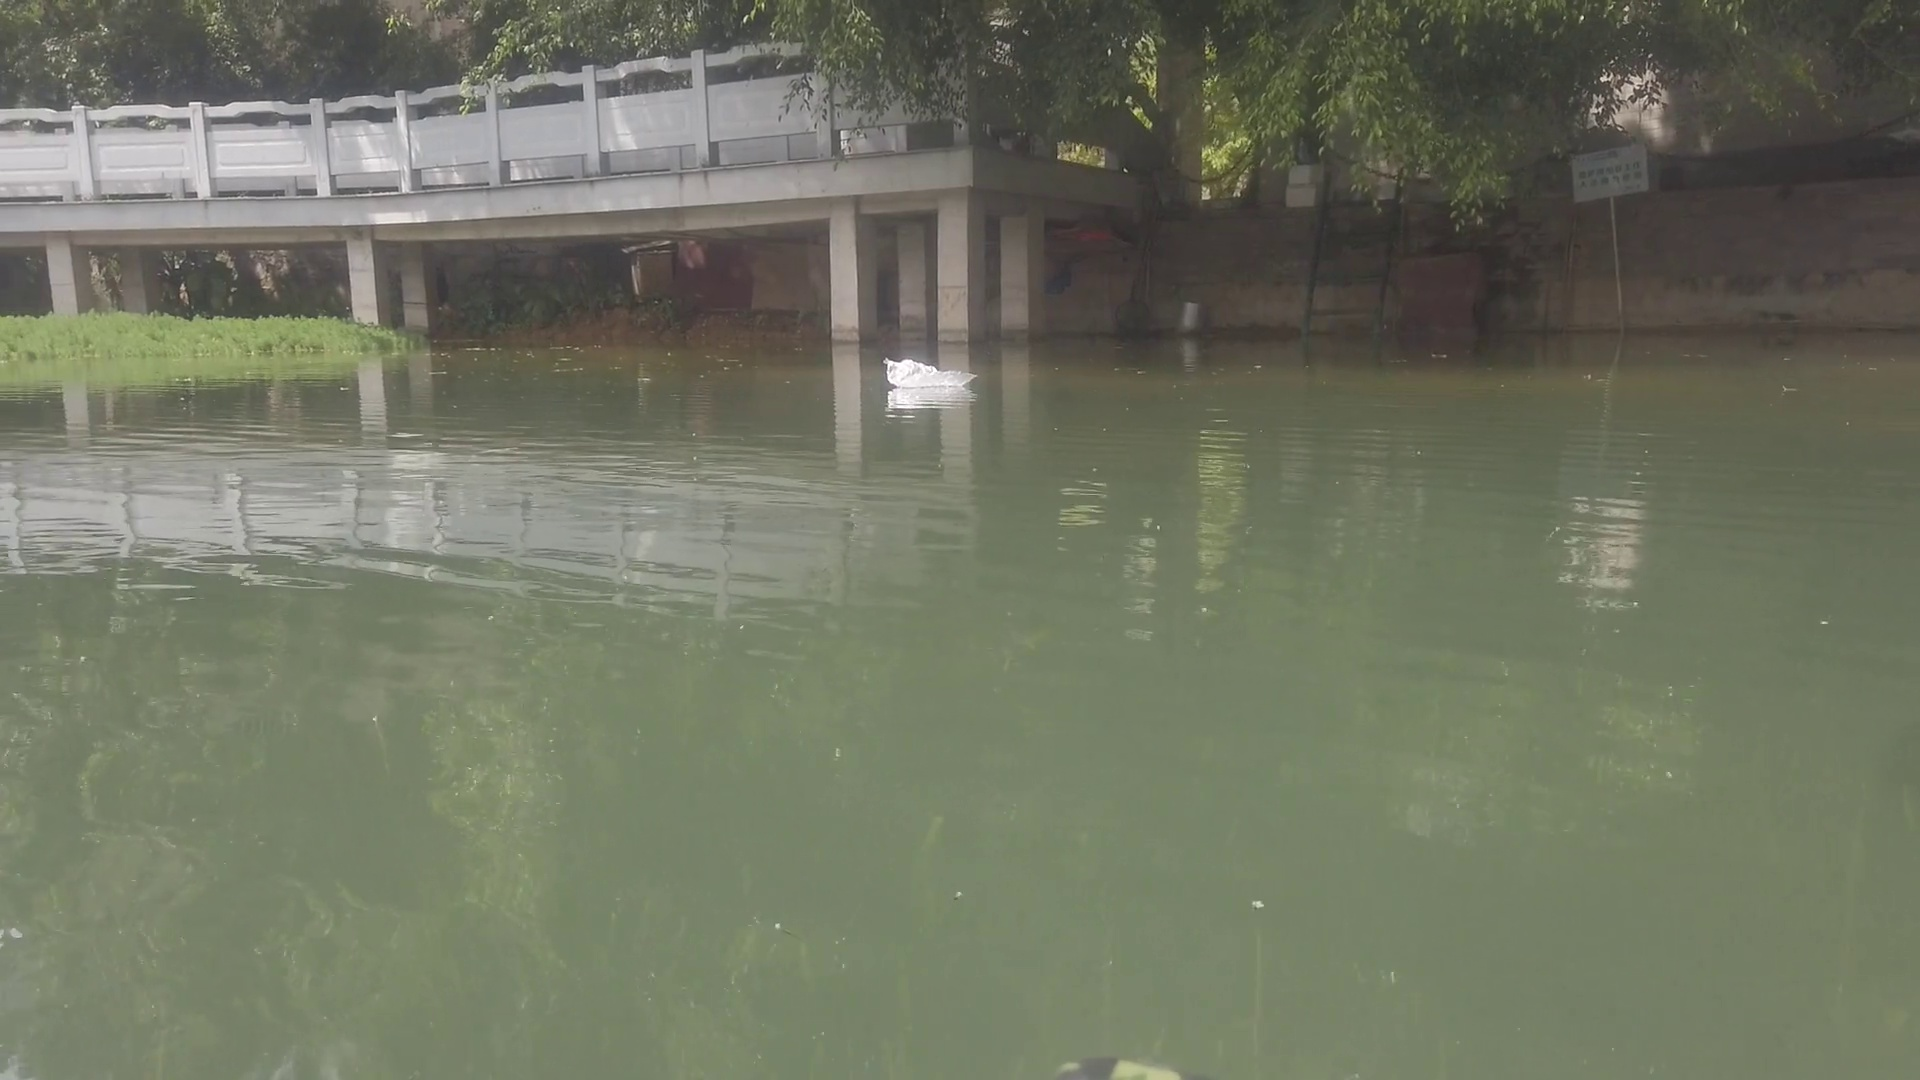plastic: (878, 353, 977, 392)
